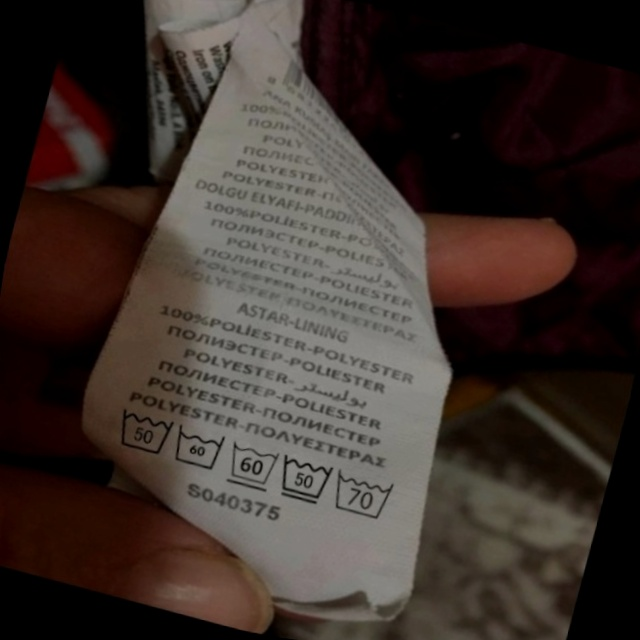50C: (105, 396, 183, 466), (269, 446, 341, 514)
60C: (219, 433, 288, 498), (165, 417, 234, 480)
70C: (326, 463, 405, 529)
